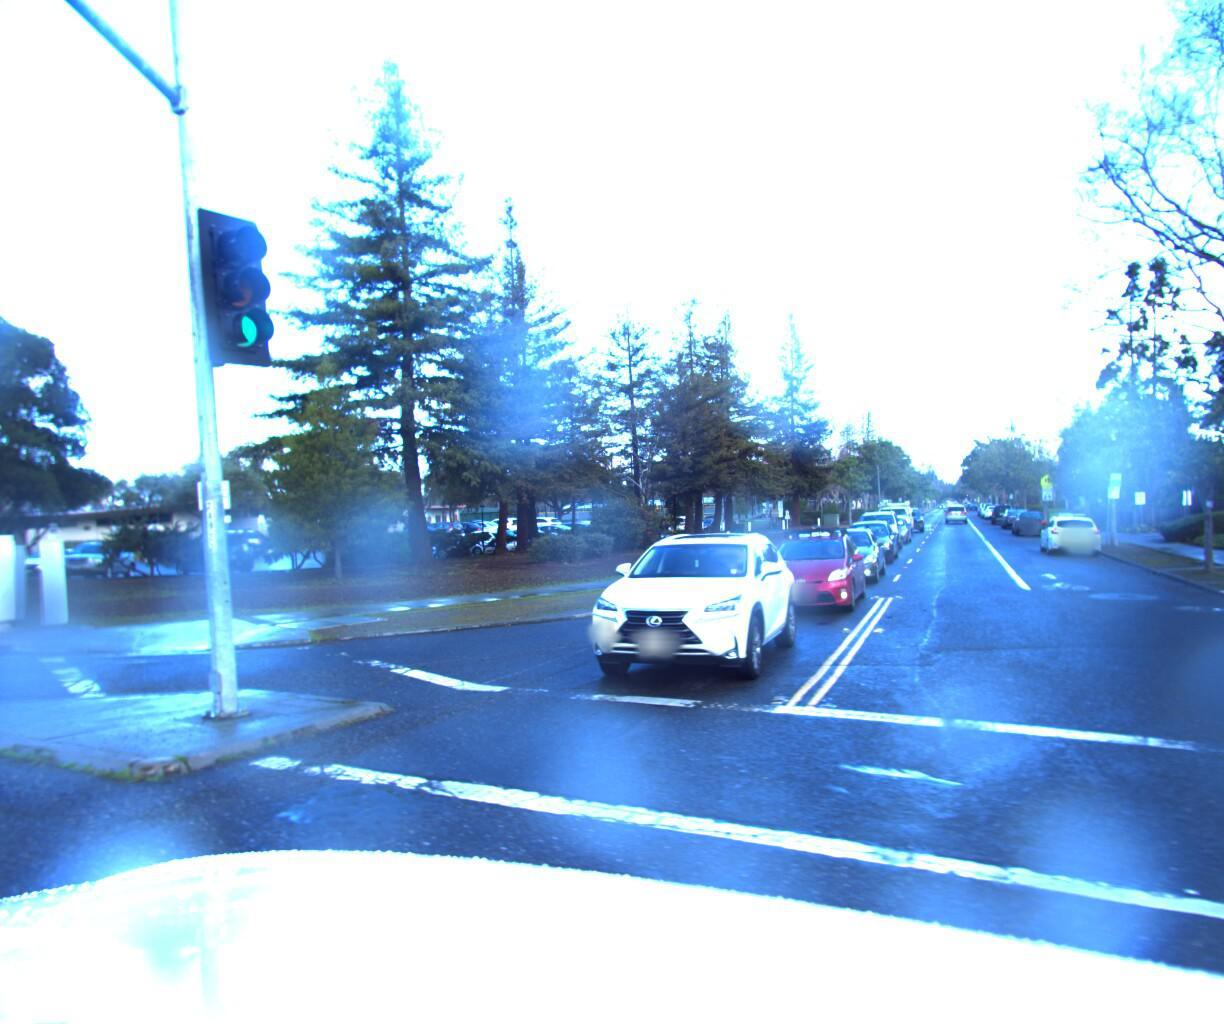car: (571, 525, 809, 699), (750, 523, 874, 621), (802, 530, 888, 589), (1036, 515, 1106, 561), (835, 525, 900, 568), (855, 517, 905, 554), (874, 500, 916, 540), (871, 514, 913, 546), (1009, 511, 1051, 540), (998, 509, 1031, 533), (945, 505, 967, 523)
